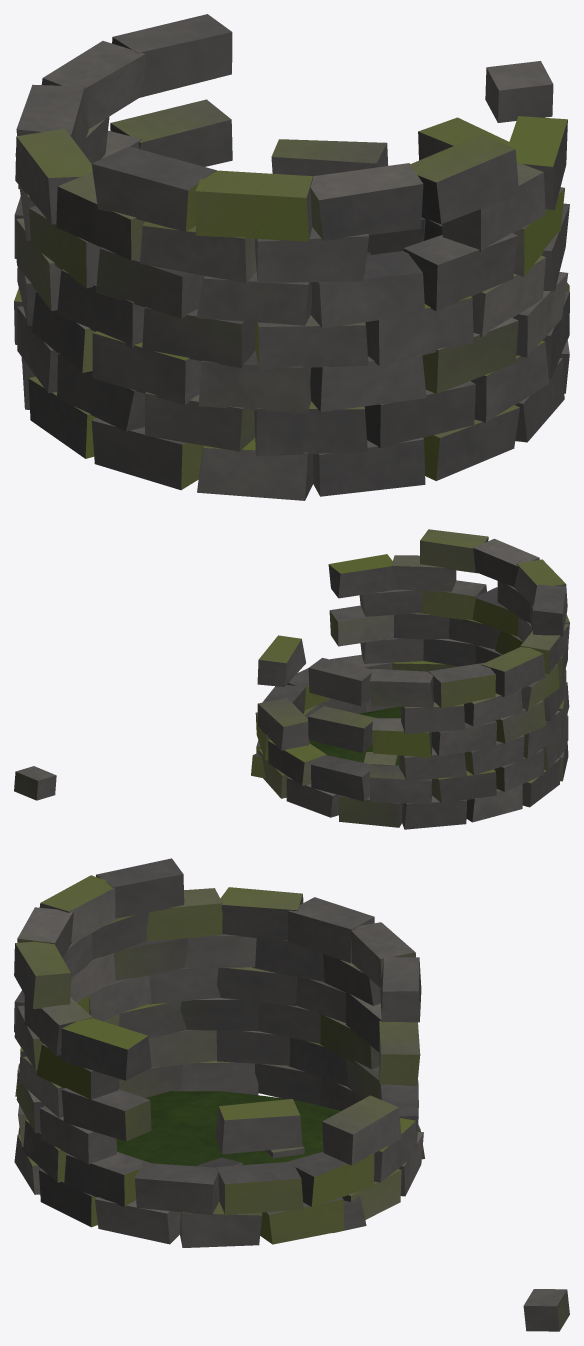
File: tower_ruin.glb
The picture shows the model from 3 angles, top to bottom: view 1: azimuth 30°, elevation 25°; view 2: azimuth 150°, elevation 25°; view 3: azimuth 270°, elevation 25°; orthographic projection. The views are drawn at different scales.
Visible parts, largest first — view 1: tower_ruin_2; view 2: tower_ruin_2; view 3: tower_ruin_2.
Boxes of the visible parts, box(x1,y1,x2,y2) form: tower_ruin_2: box(14, 14, 569, 500); tower_ruin_2: box(14, 529, 569, 829); tower_ruin_2: box(14, 858, 569, 1331).
Size of the model in its own units: 8.8 by 3.69 by 8.02.
Materials: 2 (2 with a texture image).
